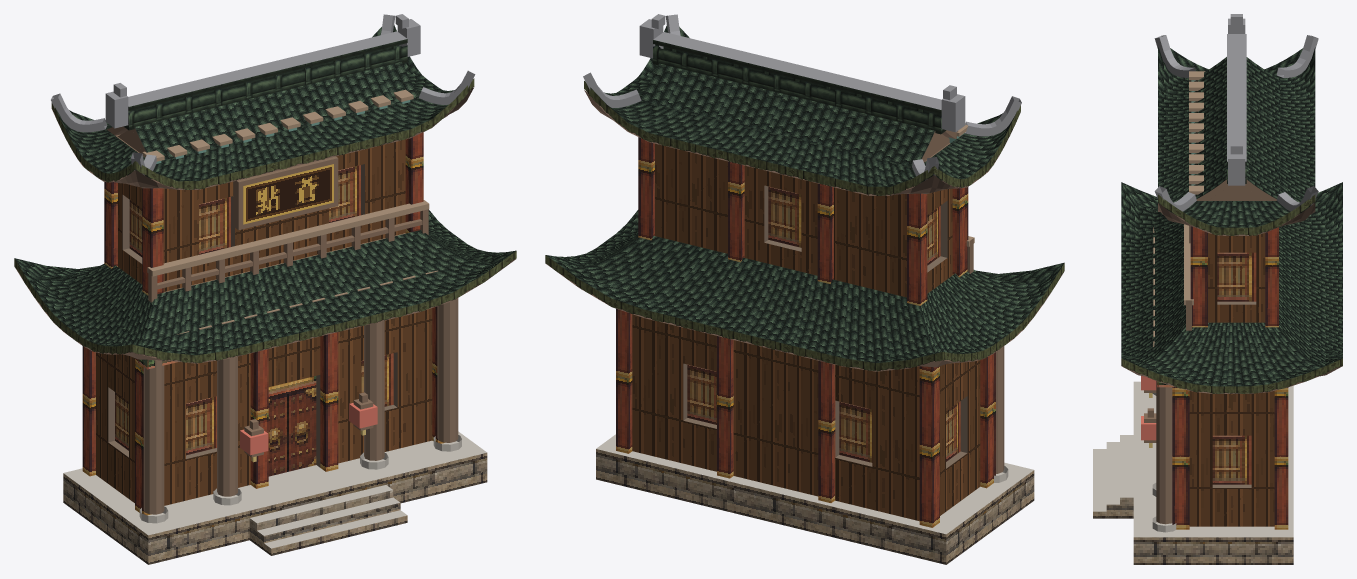
Rendered from g_jeomchang_wood_o.glb.
3 views of the same model, side by side, from view 1: azimuth 30°, elevation 25°; view 2: azimuth 150°, elevation 25°; view 3: azimuth 270°, elevation 25° (orthographic). The views are drawn at different scales.
Parts seen in each view (by area): view 1: roof, plaster, stone, post, stonetop, col, eave, ridgeend, win, wood, ridge, woodl (+5 smaller); view 2: roof, plaster, post, stone, eave, ridgeend, win, ridge, stonetop, reveal, under, col (+1 smaller); view 3: roof, plaster, stonetop, post, ridgeend, stone, win, eave, col, woodl, wood, under (+1 smaller).
Boxes of the visible parts, bbox=[...] form: roof: bbox=[14, 25, 515, 355]; plaster: bbox=[96, 139, 432, 505]; stone: bbox=[63, 453, 487, 564]; post: bbox=[82, 132, 444, 515]; stonetop: bbox=[63, 431, 486, 548]; col: bbox=[143, 298, 458, 514]; eave: bbox=[14, 79, 516, 363]; ridgeend: bbox=[51, 14, 475, 175]; win: bbox=[115, 165, 393, 455]; wood: bbox=[107, 126, 428, 457]; ridge: bbox=[123, 39, 407, 130]; woodl: bbox=[142, 89, 437, 360]; roof: bbox=[546, 25, 1064, 362]; plaster: bbox=[632, 143, 980, 521]; post: bbox=[616, 137, 995, 527]; stone: bbox=[596, 449, 1034, 564]; eave: bbox=[545, 81, 1064, 371]; ridgeend: bbox=[583, 14, 1021, 180]; win: bbox=[687, 186, 960, 462]; ridge: bbox=[653, 40, 946, 134]; stonetop: bbox=[596, 434, 1033, 534]; reveal: bbox=[683, 185, 967, 468]; under: bbox=[546, 90, 1063, 371]; col: bbox=[996, 346, 1004, 473]; roof: bbox=[1121, 47, 1342, 386]; plaster: bbox=[1189, 233, 1274, 526]; stonetop: bbox=[1093, 381, 1293, 537]; post: bbox=[1172, 226, 1288, 529]; ridgeend: bbox=[1154, 14, 1318, 211]; stone: bbox=[1093, 497, 1293, 564]; win: bbox=[1212, 252, 1256, 484]; eave: bbox=[1121, 194, 1342, 393]; col: bbox=[1156, 381, 1172, 524]; woodl: bbox=[1153, 71, 1205, 346]; wood: bbox=[1144, 179, 1276, 442]; under: bbox=[1121, 203, 1342, 393].
Size of the model in its own units: 67.95 by 73 by 40.69.
Materials: 20 (10 with a texture image).
